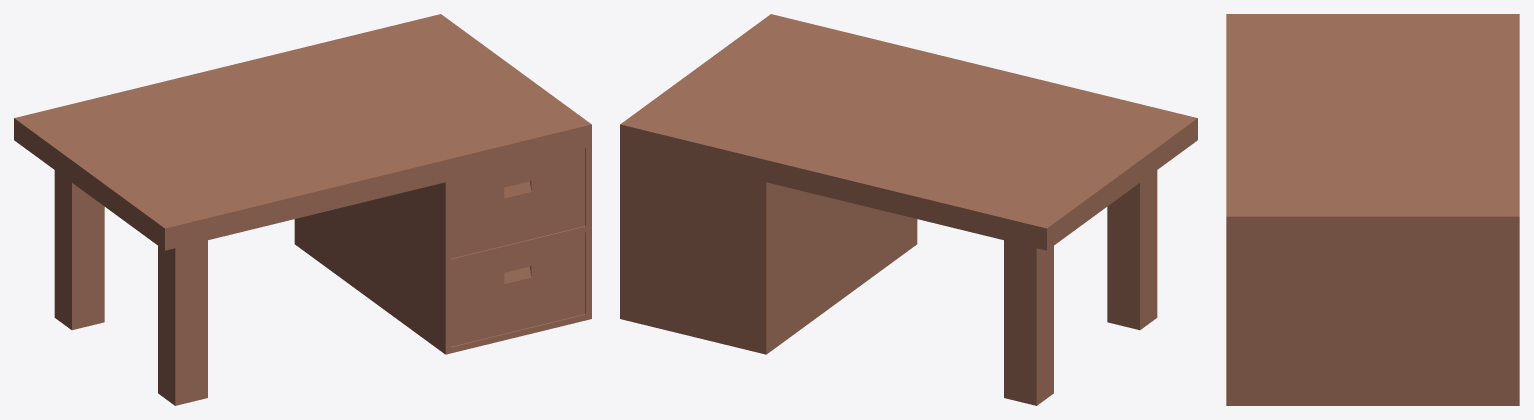
File: Desk.fbx
3 renders of one model, left to right at view 1: azimuth 30°, elevation 25°; view 2: azimuth 150°, elevation 25°; view 3: azimuth 270°, elevation 25°, orthographic. The views are drawn at different scales.
Parts seen in each view (by area): view 1: Desk; view 2: Desk; view 3: Desk.
Boxes of the visible parts, x1=… form: Desk: x1=14, y1=14, x2=591, y2=405; Desk: x1=620, y1=14, x2=1197, y2=405; Desk: x1=1226, y1=14, x2=1519, y2=405.
Size of the model in its own units: 3.16 by 1.38 by 1.94.
